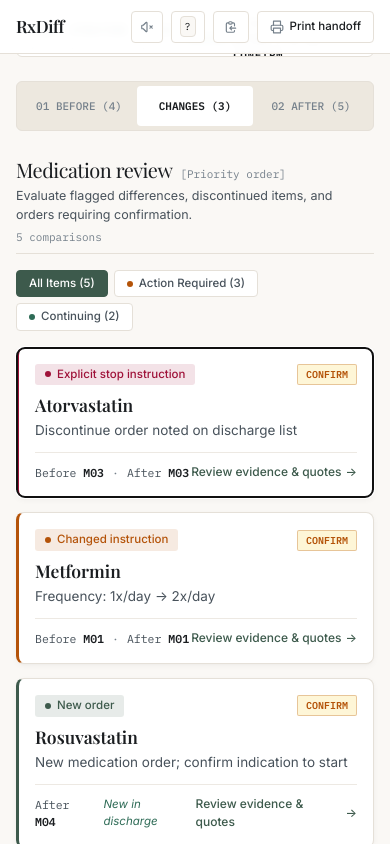
Pixel & Layout Requirements Verification › 390x844 mobile checks: safety strip visible, sheet opens inside viewport with scrim and returns focus
(page scrolled)
Click the button "Atorvastatin": (195, 422) 16,347 -> 374,498
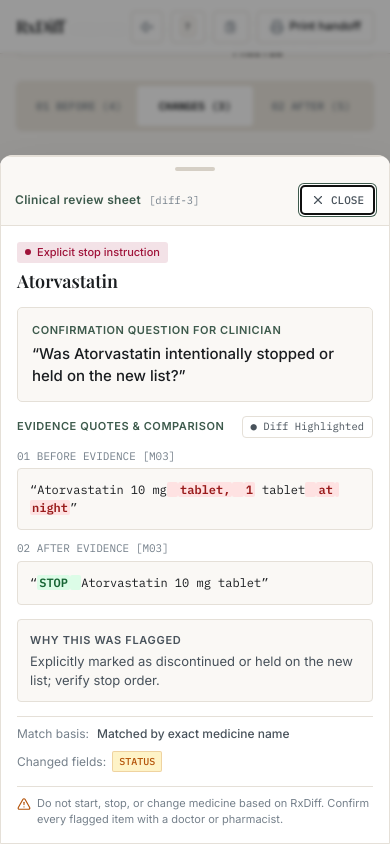
Expected: the dialog with test id "mobile-evidence-sheet" is shown
Expected: the element with test id "mobile-sheet-scrim" is shown
Expected: the text "Was Atorvastatin intentionally stopped or held on the new list?" is shown, 32,344 -> 334,385
# Close sheet via CLOSE button
Click the button with aria-label "close evidence sheet": (338, 200) 300,185 -> 375,215
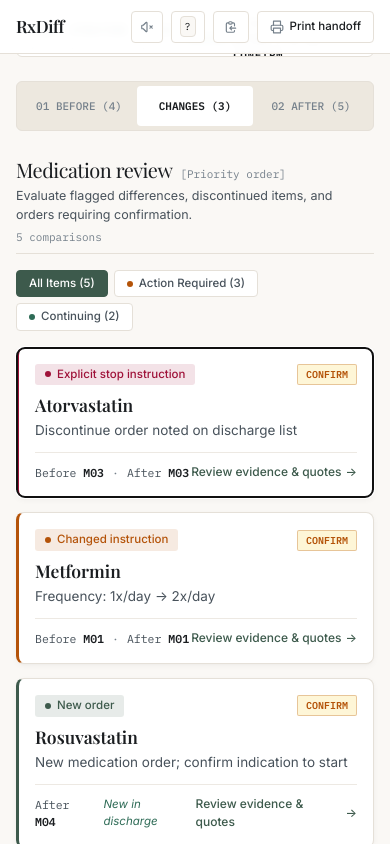
Expected: the dialog with test id "mobile-evidence-sheet" is gone
